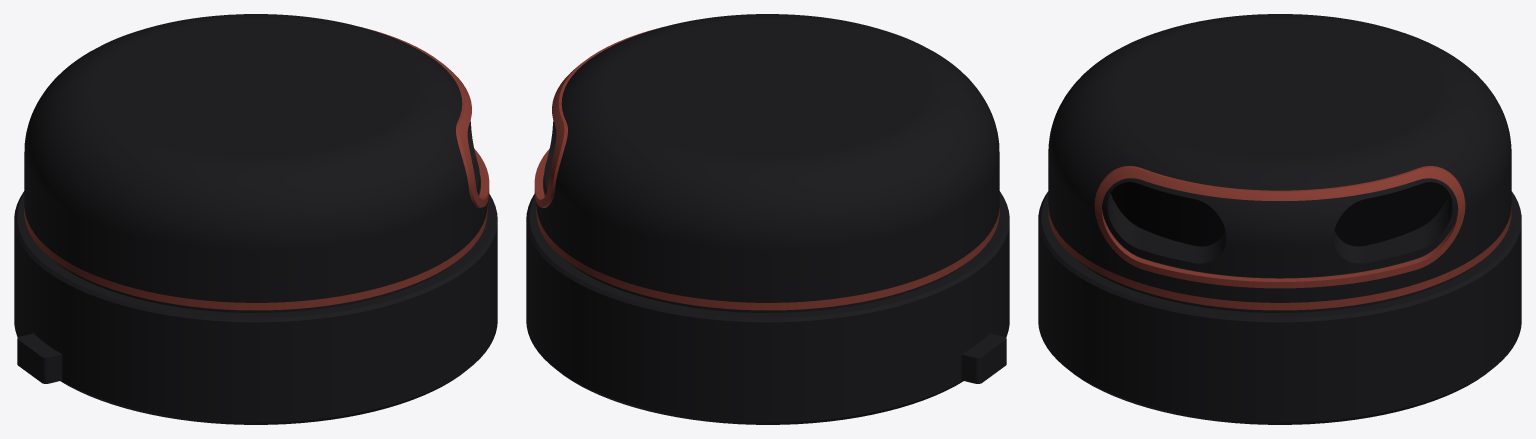
File: rplidar_a2.glb
3 views of the same model, side by side, from view 1: azimuth 30°, elevation 25°; view 2: azimuth 150°, elevation 25°; view 3: azimuth 270°, elevation 25° (orthographic).
Parts seen in each view (by area): view 1: housing, trim; view 2: housing, trim; view 3: housing, trim, windows.
Boxes of the visible parts, x1,y1,x2,y2 form: housing: [14, 14, 497, 424]; trim: [24, 27, 489, 310]; housing: [526, 14, 1009, 424]; trim: [534, 27, 999, 310]; housing: [1038, 14, 1521, 424]; trim: [1048, 166, 1511, 310]; windows: [1110, 182, 1449, 246].
Bounding box in the file's own units: 0.0787 × 0.0408 × 0.0757.
